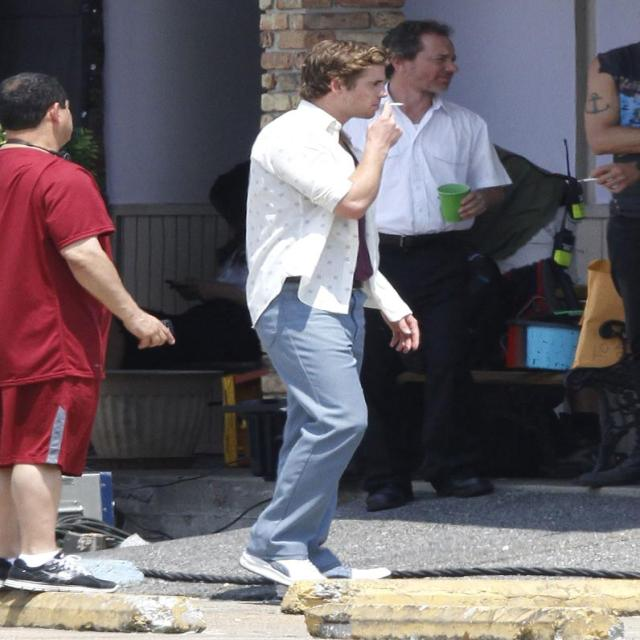cigarette: (374, 95, 412, 114)
